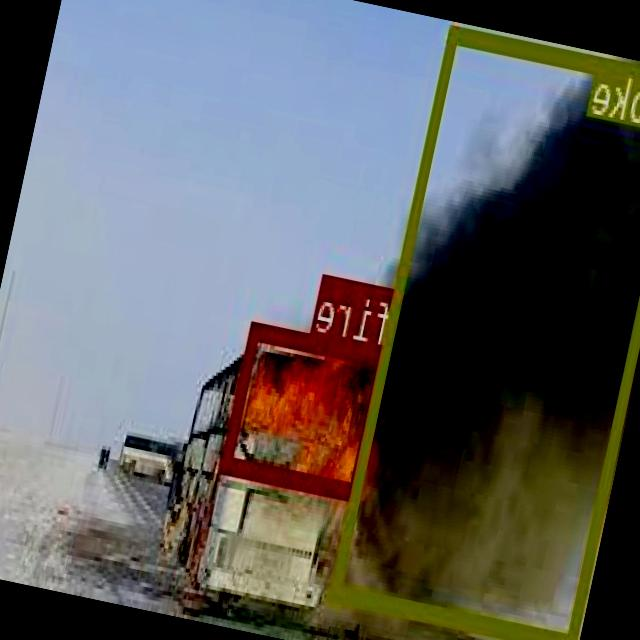fire: (224, 318, 392, 499)
smoke: (330, 21, 640, 640)
